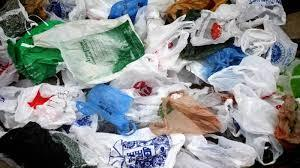Plastic bag: (33, 21, 146, 81), (198, 5, 292, 44), (86, 142, 211, 168), (13, 81, 79, 129), (81, 88, 140, 137), (168, 93, 228, 136), (151, 17, 196, 66), (229, 51, 277, 92), (232, 97, 277, 137), (276, 97, 300, 144)
